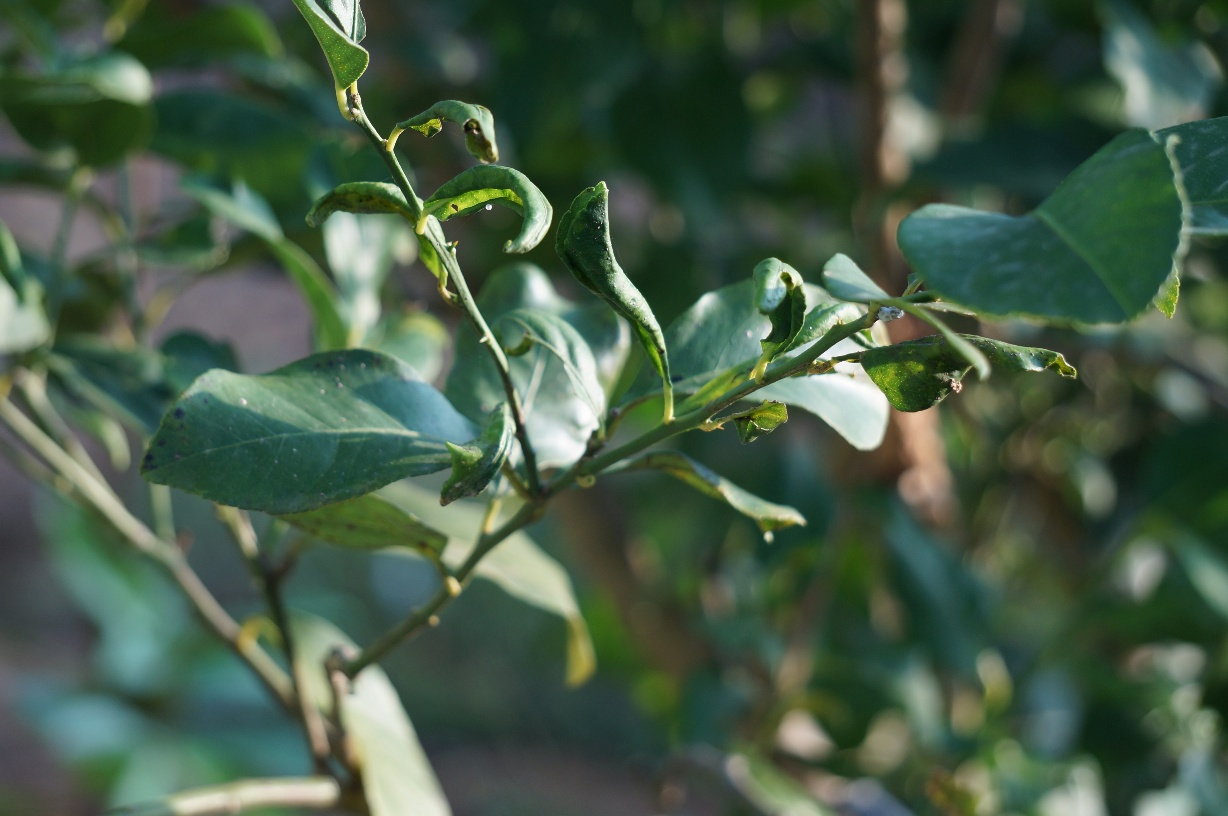curly: (550, 174, 670, 387), (416, 161, 560, 257), (748, 253, 806, 387), (302, 176, 430, 232)
